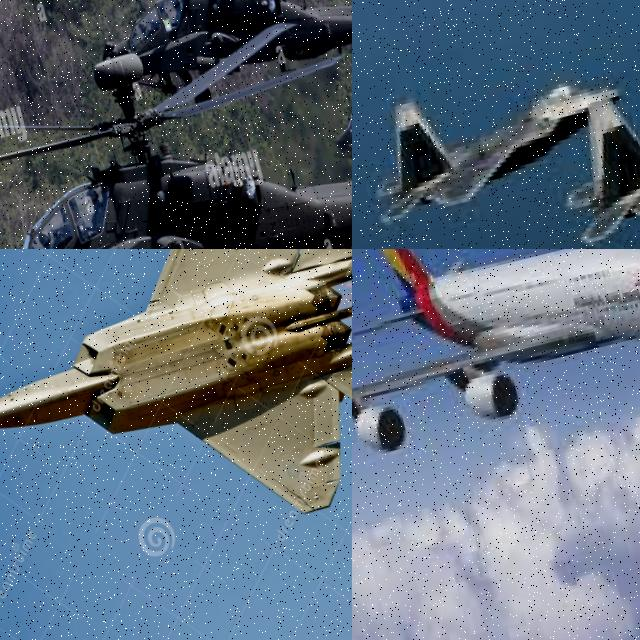A380: (352, 249, 640, 498)
Apache: (0, 0, 352, 249), (58, 0, 352, 135)
F22: (0, 249, 352, 587), (352, 44, 640, 224), (542, 39, 640, 249)
